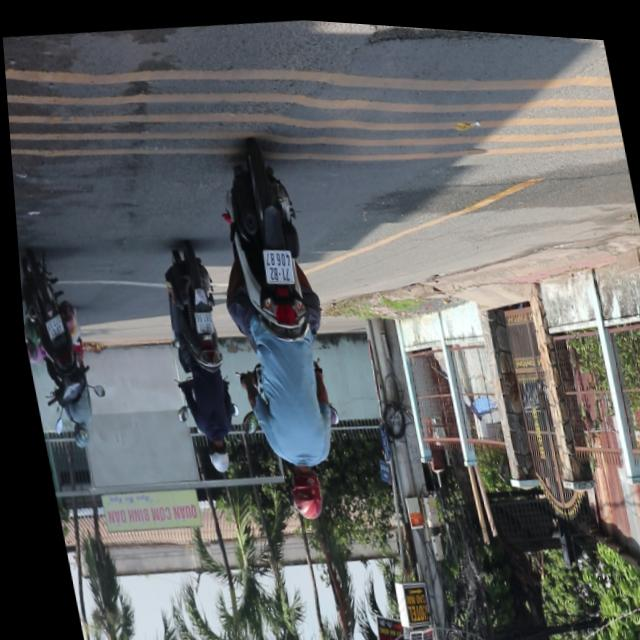helmet: (278, 457, 322, 521), (200, 436, 226, 473)
licenseplate: (194, 140, 360, 531), (149, 240, 245, 477)
nohelmet: (257, 245, 292, 284), (190, 310, 210, 333)
